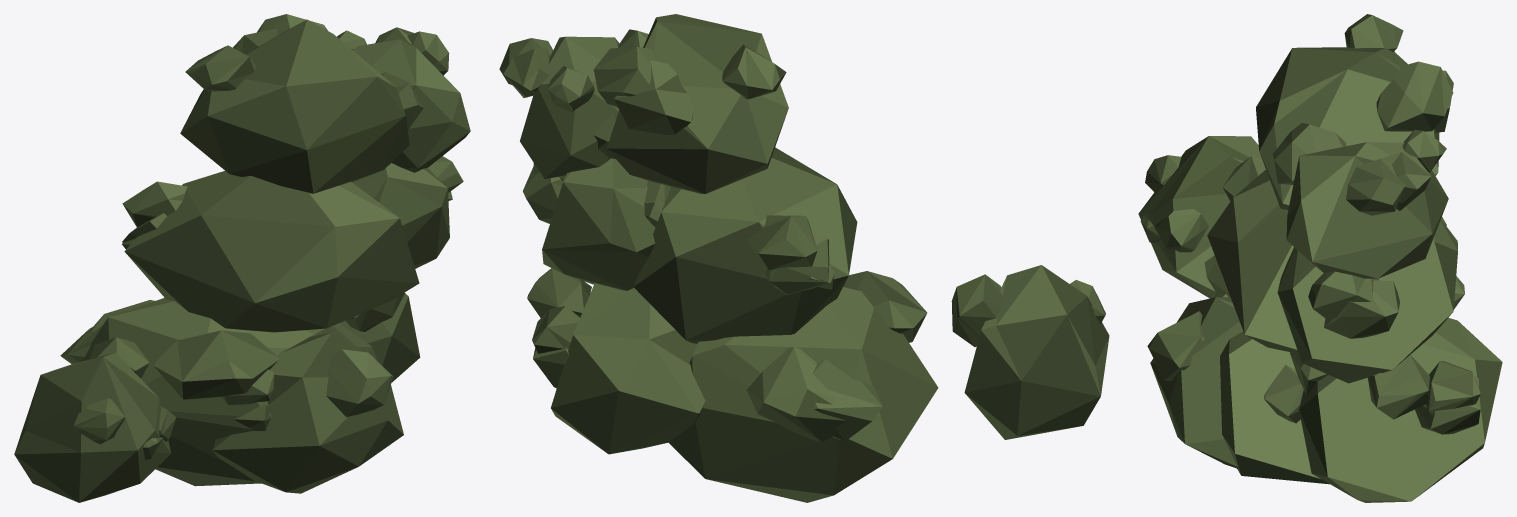
The model's file is Leaves_A.glb.
The picture shows the model from 3 angles, left to right: view 1: azimuth 30°, elevation 25°; view 2: azimuth 150°, elevation 25°; view 3: azimuth 270°, elevation 25°; orthographic projection. The views are drawn at different scales.
Parts seen in each view (by area): view 1: Leaves; view 2: Leaves; view 3: Leaves.
Part boxes in pixels (left/top/right/bottom): Leaves: left=14, top=14, right=470, bottom=502; Leaves: left=499, top=14, right=1109, bottom=502; Leaves: left=1138, top=14, right=1502, bottom=502.
Size of the model in its own units: 23.28 by 19.25 by 13.66.
